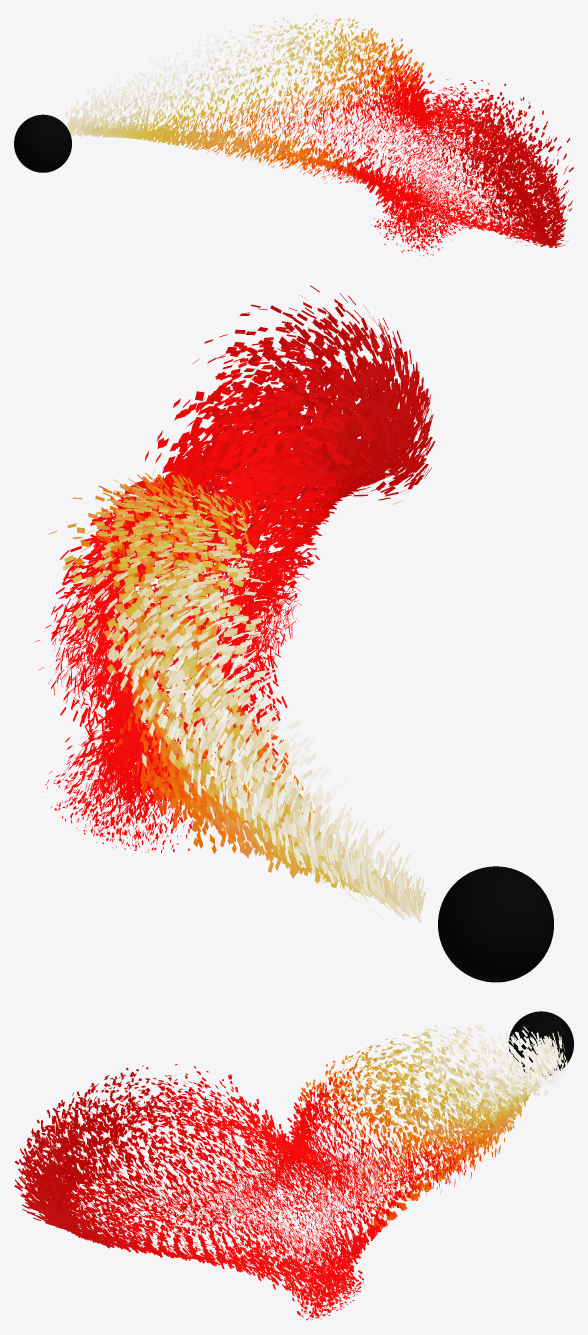
The picture shows the model from 3 angles, top to bottom: view 1: azimuth 30°, elevation 25°; view 2: azimuth 150°, elevation 25°; view 3: azimuth 270°, elevation 25°; orthographic projection. The views are drawn at different scales.
Size of the model in its own units: 4.38 by 2.44 by 5.13.
